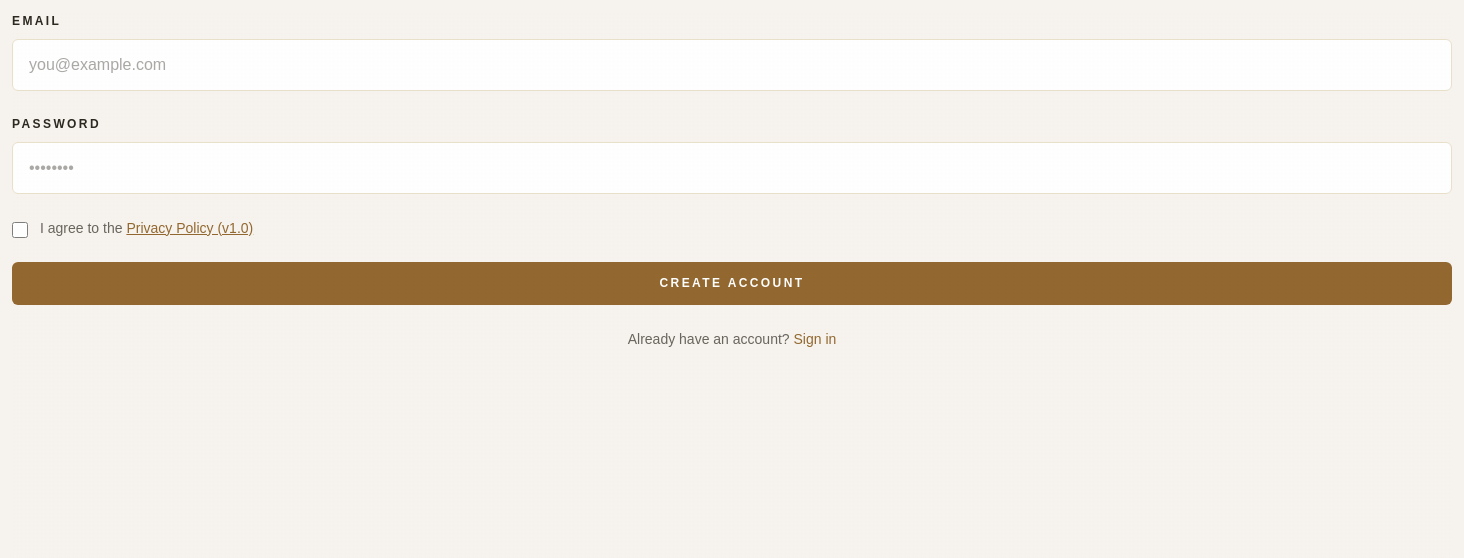
Test: SignupForm › shows server error on API failure
The image size is (1464, 558).
Type "test@example.com" into the field labelled "Email".
click(732, 65); type("test@example.com")  # box [12, 39, 1452, 91]
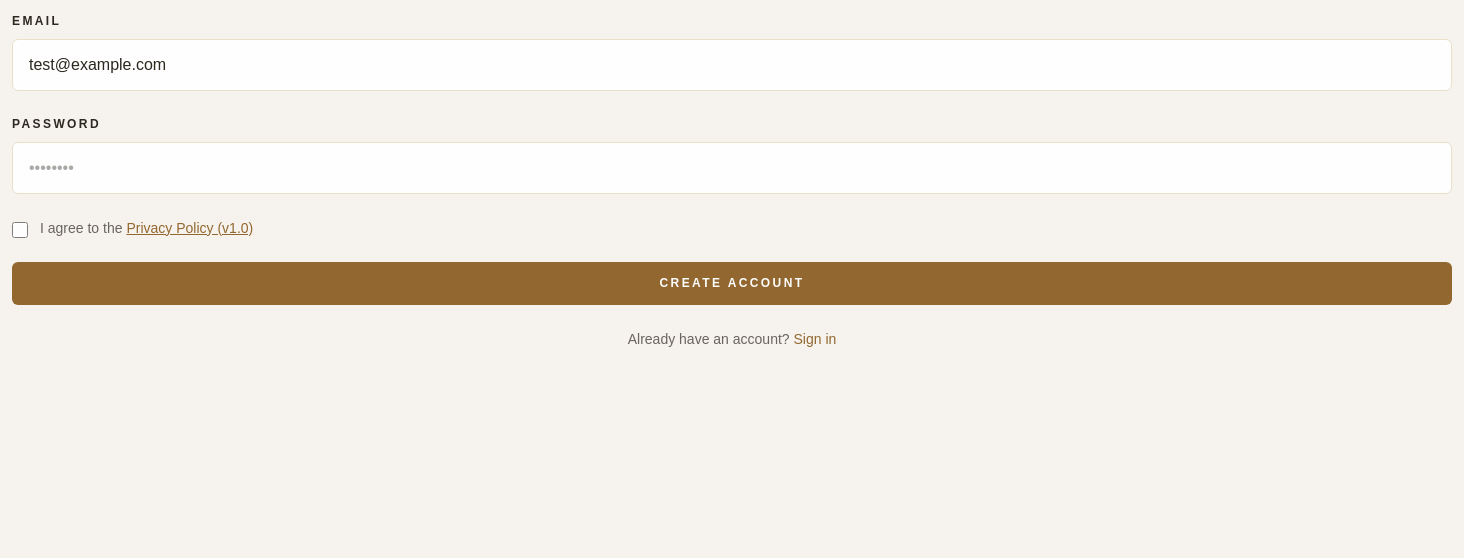
Type "Password1!" into the password field labelled "Password".
click(732, 168); type("Password1!")  # box [12, 142, 1452, 194]
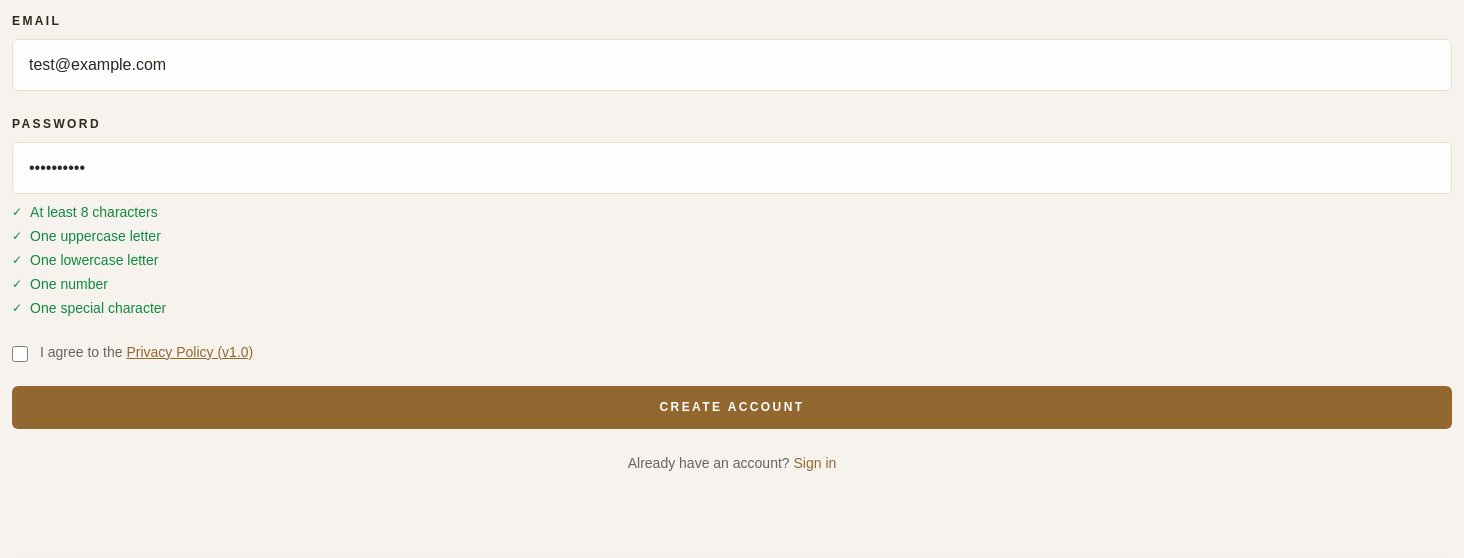
Click the checkbox.
click(20, 354)  # box [12, 346, 28, 362]
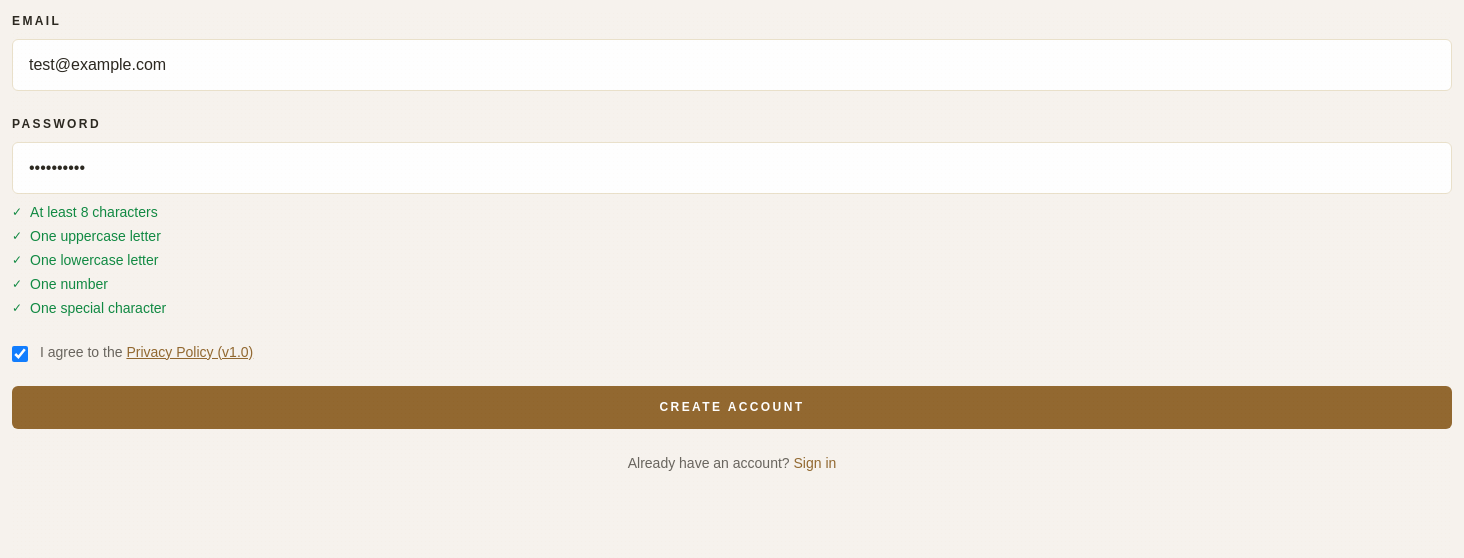
Click the button "Create Account".
click(732, 407)  # box [12, 386, 1452, 429]
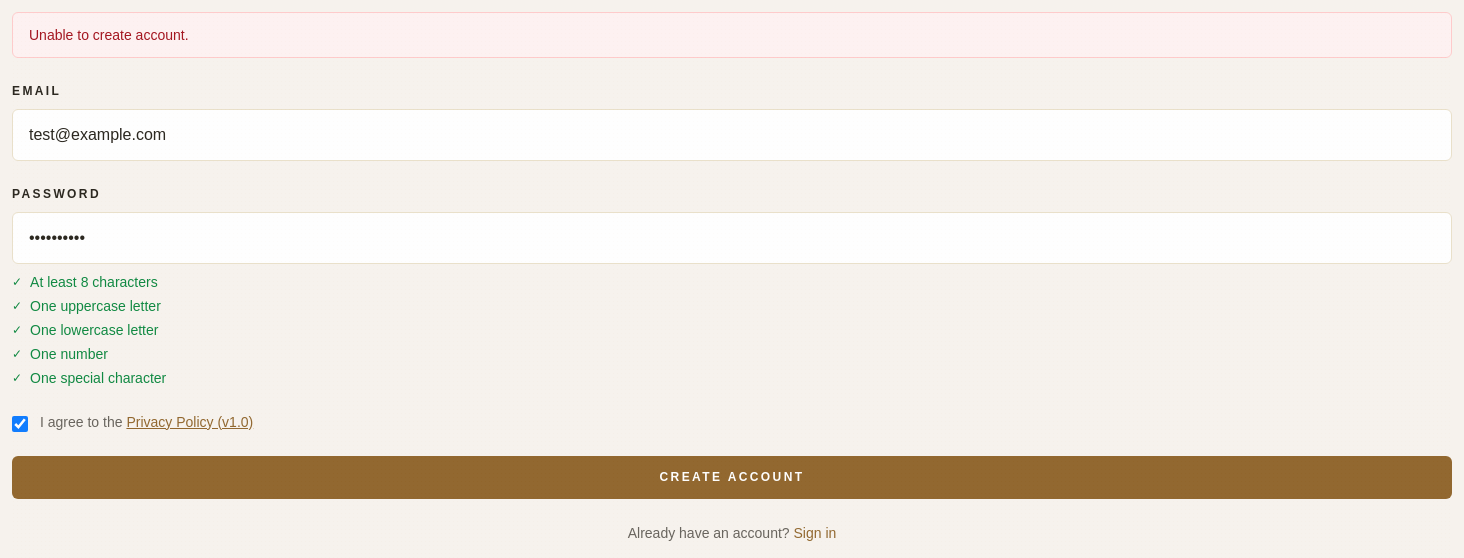
expect the text "Unable to create account." is shown: met, box [12, 12, 1452, 58]
